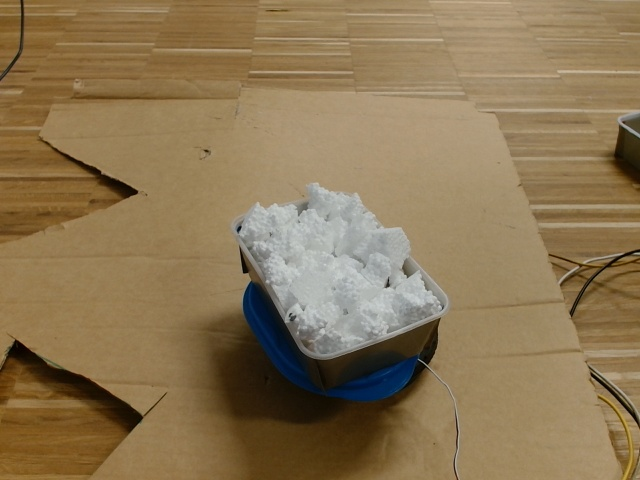Small_full: (237, 181, 449, 363)
